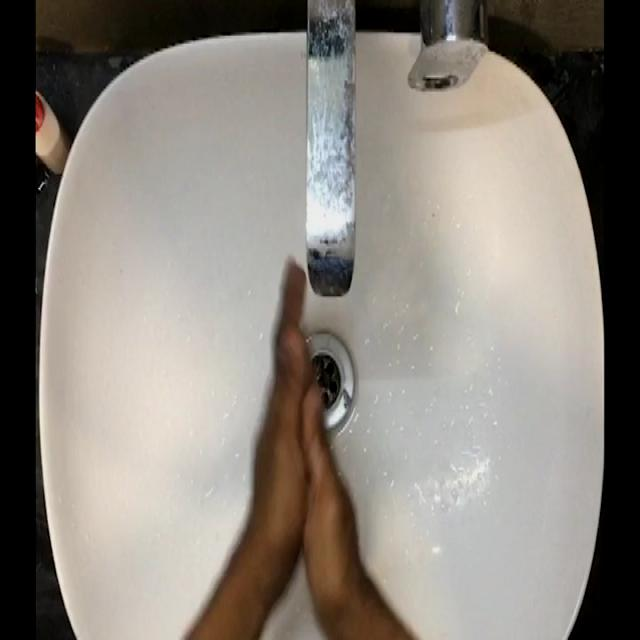step_1: (240, 242, 369, 560)
